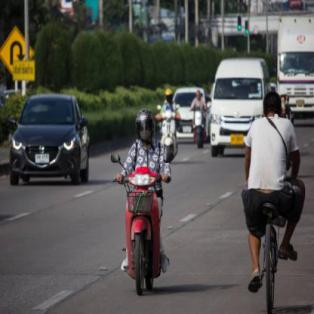Motocicleta: (117, 159, 168, 303)
